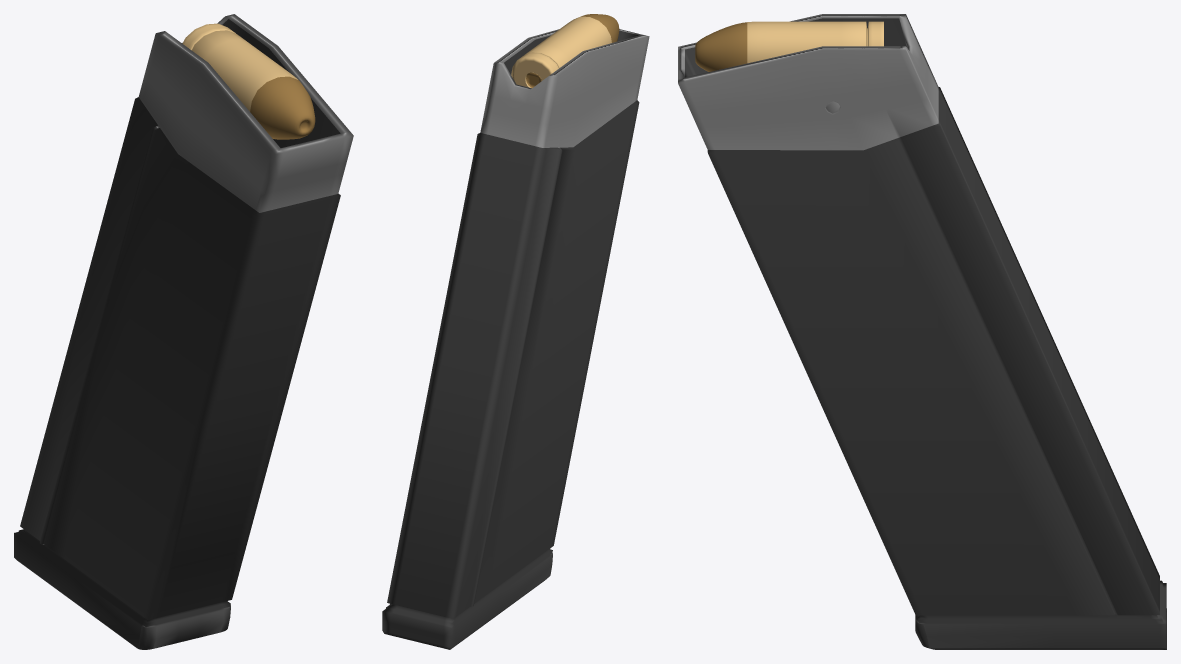
Rendered from MAGAZINE2.glb.
3 renders of one model, left to right at view 1: azimuth 30°, elevation 25°; view 2: azimuth 150°, elevation 25°; view 3: azimuth 270°, elevation 25°, orthographic. The views are drawn at different scales.
Visible parts, largest first — view 1: MAG, Bullet; view 2: MAG, Bullet; view 3: MAG, Bullet.
Part boxes in pixels (x1=…): MAG: x1=14, y1=14, x2=353, y2=649; Bullet: x1=182, y1=23, x2=315, y2=139; MAG: x1=382, y1=29, x2=649, y2=649; Bullet: x1=511, y1=14, x2=619, y2=88; MAG: x1=678, y1=14, x2=1166, y2=649; Bullet: x1=695, y1=21, x2=883, y2=71.
Bounding box in the file's own units: 0.3174 × 2.16 × 1.58.
